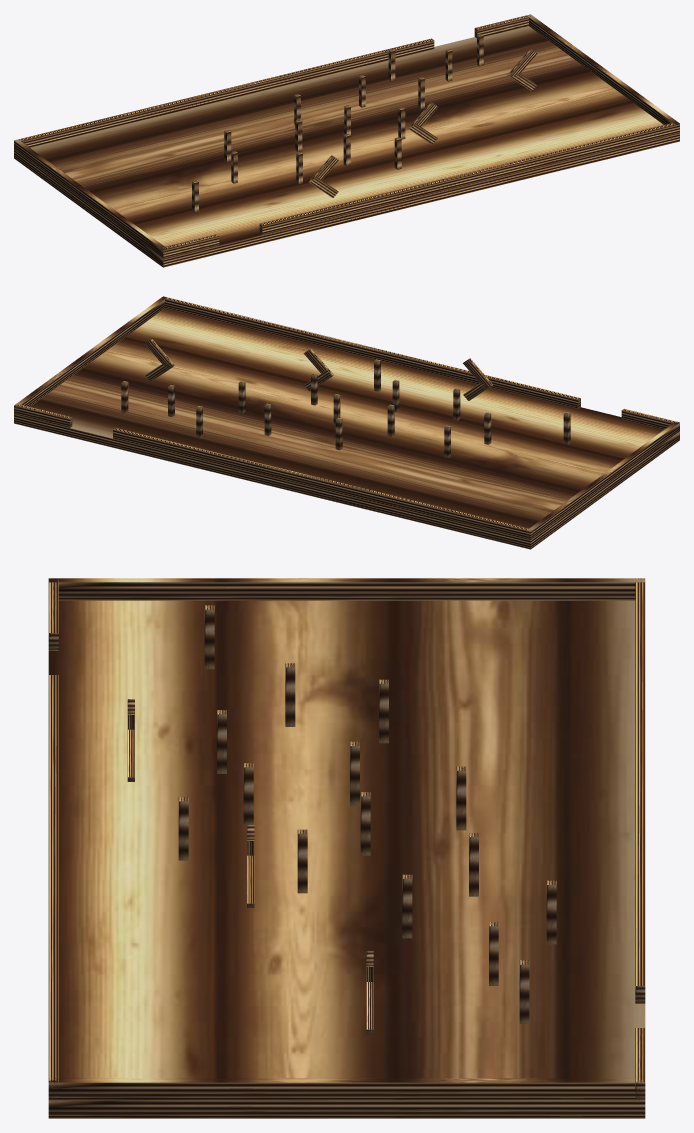
Rendered from V - Floor 2.obj.
The picture shows the model from 3 angles, top to bottom: view 1: azimuth 30°, elevation 25°; view 2: azimuth 150°, elevation 25°; view 3: azimuth 270°, elevation 25°; orthographic projection. The views are drawn at different scales.
Parts seen in each view (by area): view 1: polySurface37; view 2: polySurface37; view 3: polySurface37.
Boxes of the visible parts, left/top/right/bottom form: polySurface37: left=14, top=14, right=679, bottom=267; polySurface37: left=14, top=296, right=679, bottom=549; polySurface37: left=48, top=578, right=645, bottom=1118.
Bounding box in the file's own units: 4200 × 391 × 2100.
